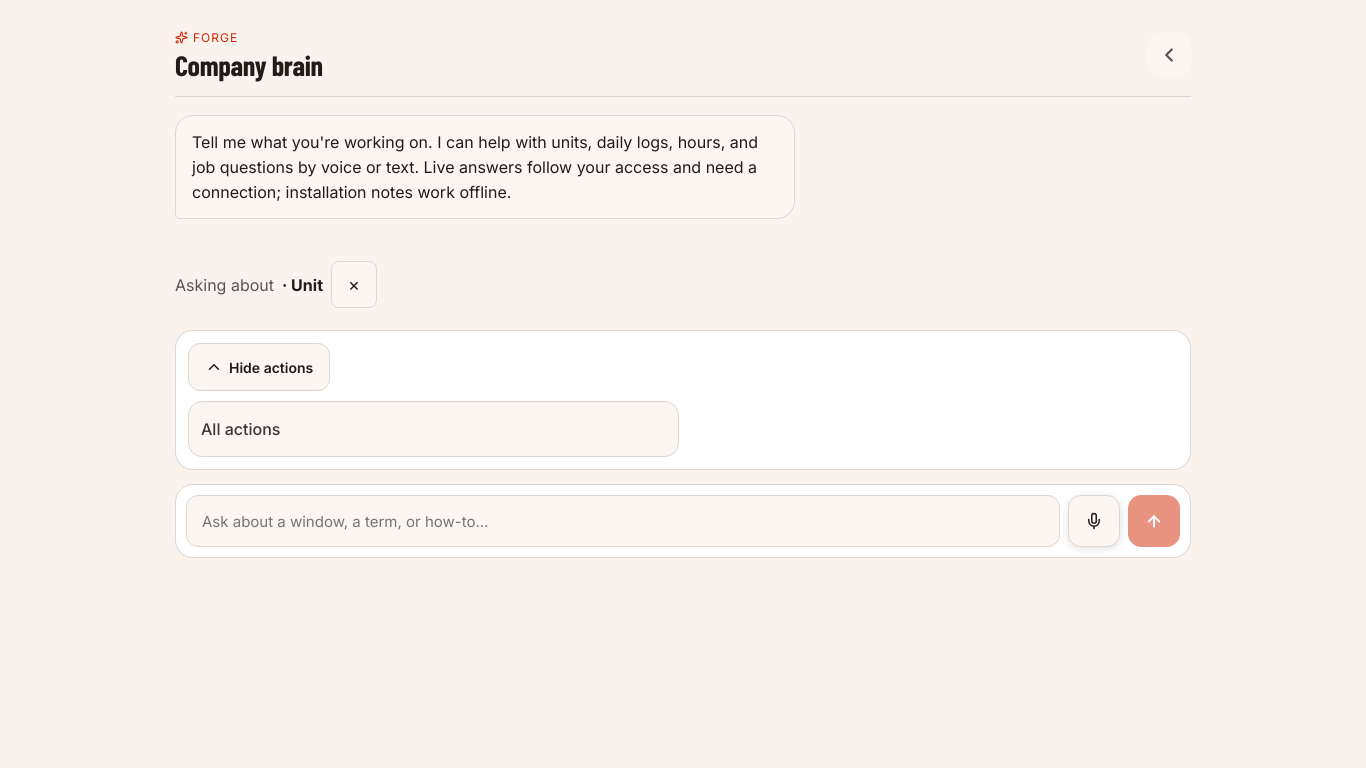
Test: Ask's voice message and unsaved work › keeps the claim for a recording the phone could not keep
The width and height of the screenshot is (1366, 768).
Click the button named "Record a voice message" at (1094, 521), box [1068,495,1120,547]
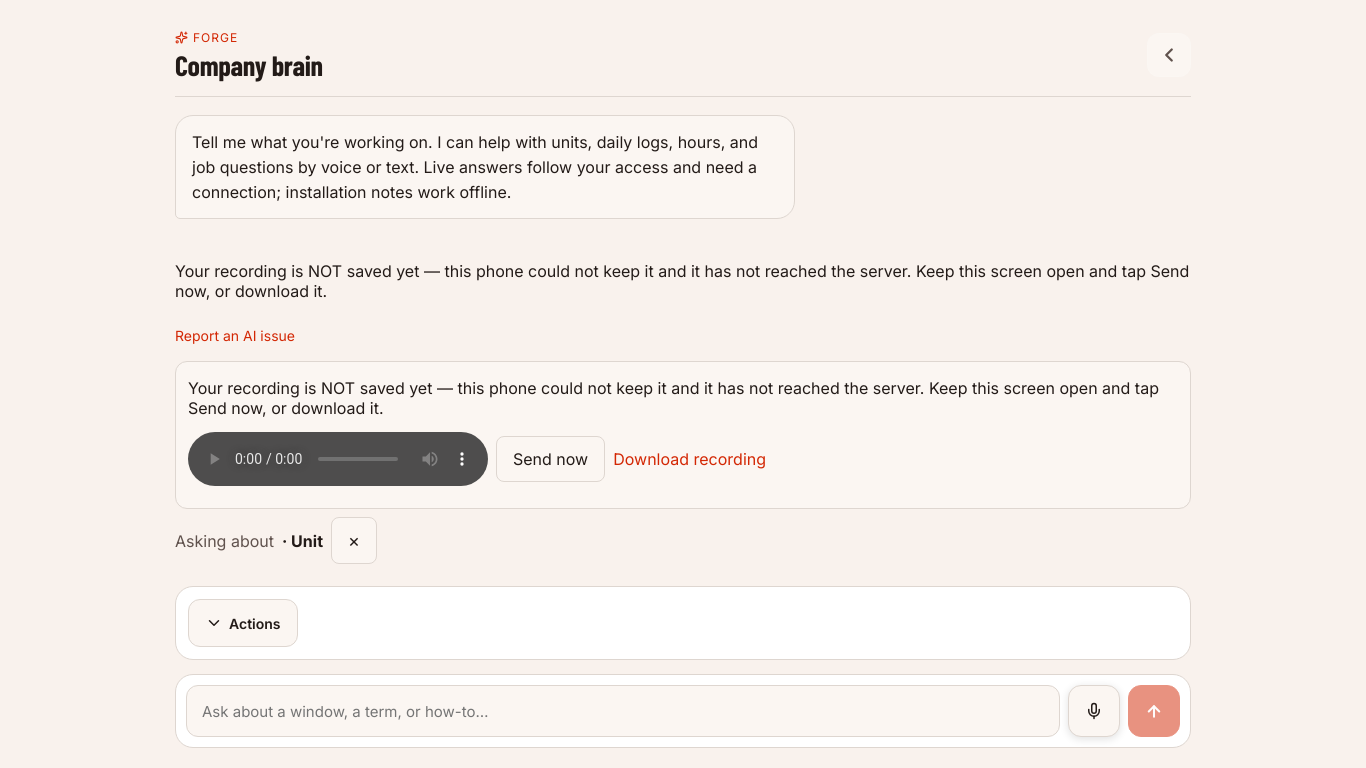
Result: the text "NOT saved yet" is shown at [175,261,1189,301]
Result: the text "Send now" is shown at [175,261,1189,301]
